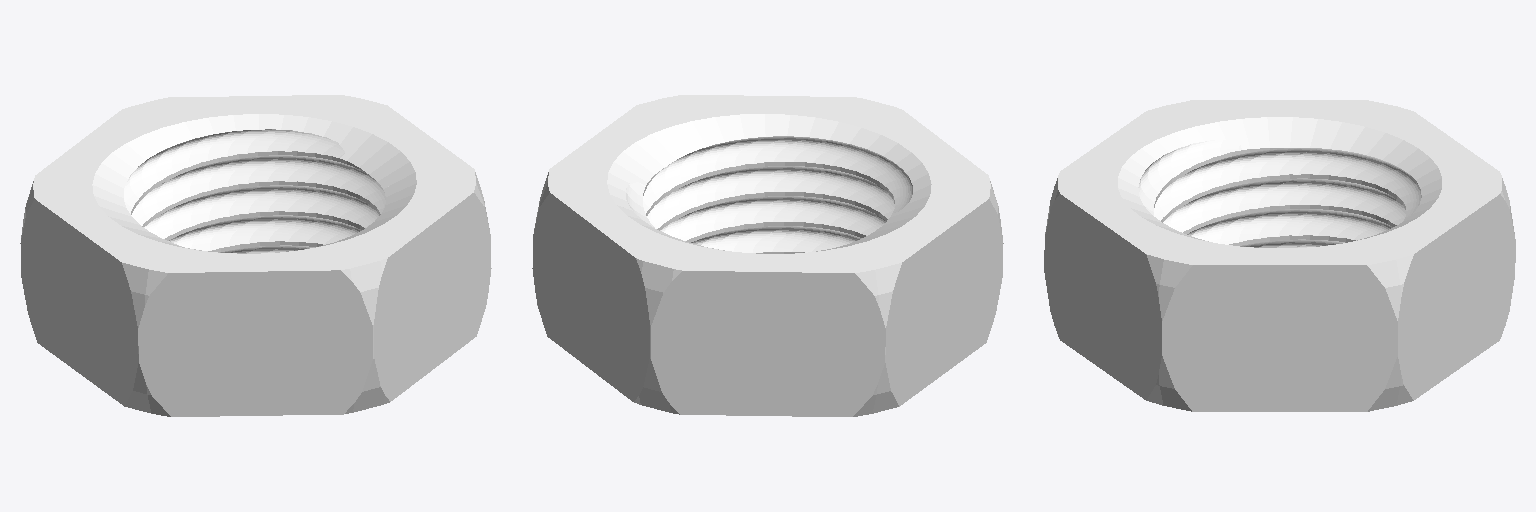
The robot description file, URDF, robot "board":
<?xml version="0.0" ?>
<robot name="board">
    <material name="white">
        <color rgba="1 1 1 1"/>
    </material>

    <link name="baseLink">
        <!-- from lego/lego.urdf -->
        <inertial>
            <origin rpy="0 0 0" xyz="0 0 0"/>
            <mass value="10.0"/>
            <inertia ixx="1" ixy="0" ixz="0" iyy="1" iyz="0" izz="1"/>
        </inertial>
        <visual>
            <origin rpy="1.57 0 0" xyz="0 0 0"/>
            <geometry>
                <!--        radius: 10mm, depth: 14.5mm-->
                <mesh filename="meshes/lower_nut.obj" scale="0.75 0.75 0.75"/>
                <!--        <box size="0.002 0.002 0.002"/>-->
            </geometry>
            <material name="white"/>
        </visual>
        <collision>
            <origin rpy="1.57 0 0" xyz="0 0 0"/>
            <geometry>
                <mesh filename="meshes/lower_nut.obj" scale="0.75 0.75 0.75"/>
                       <!-- <box size="2 2 2"/> -->
            </geometry>
        </collision>
    </link>
</robot>

--- Facts derived from the render (not from the file) ---
The picture shows the robot from 3 angles, left to right: view 1: azimuth 30°, elevation 25°; view 2: azimuth 150°, elevation 25°; view 3: azimuth 270°, elevation 25°; orthographic projection.
Model board with 1 links and 0 joints (none), rooted at baseLink, posed all joints at 0.
Visible links, largest first — view 1: baseLink; view 2: baseLink; view 3: baseLink.
Link boxes in pixels (x1=…): baseLink: x1=20, y1=95, x2=491, y2=416; baseLink: x1=532, y1=95, x2=1003, y2=416; baseLink: x1=1044, y1=100, x2=1515, y2=411.
Bounding box of the posed robot: 0.188 × 0.2151 × 0.0769 m (x, y, z).
1 mesh visuals loaded from 1 distinct referenced files (1 OBJ).